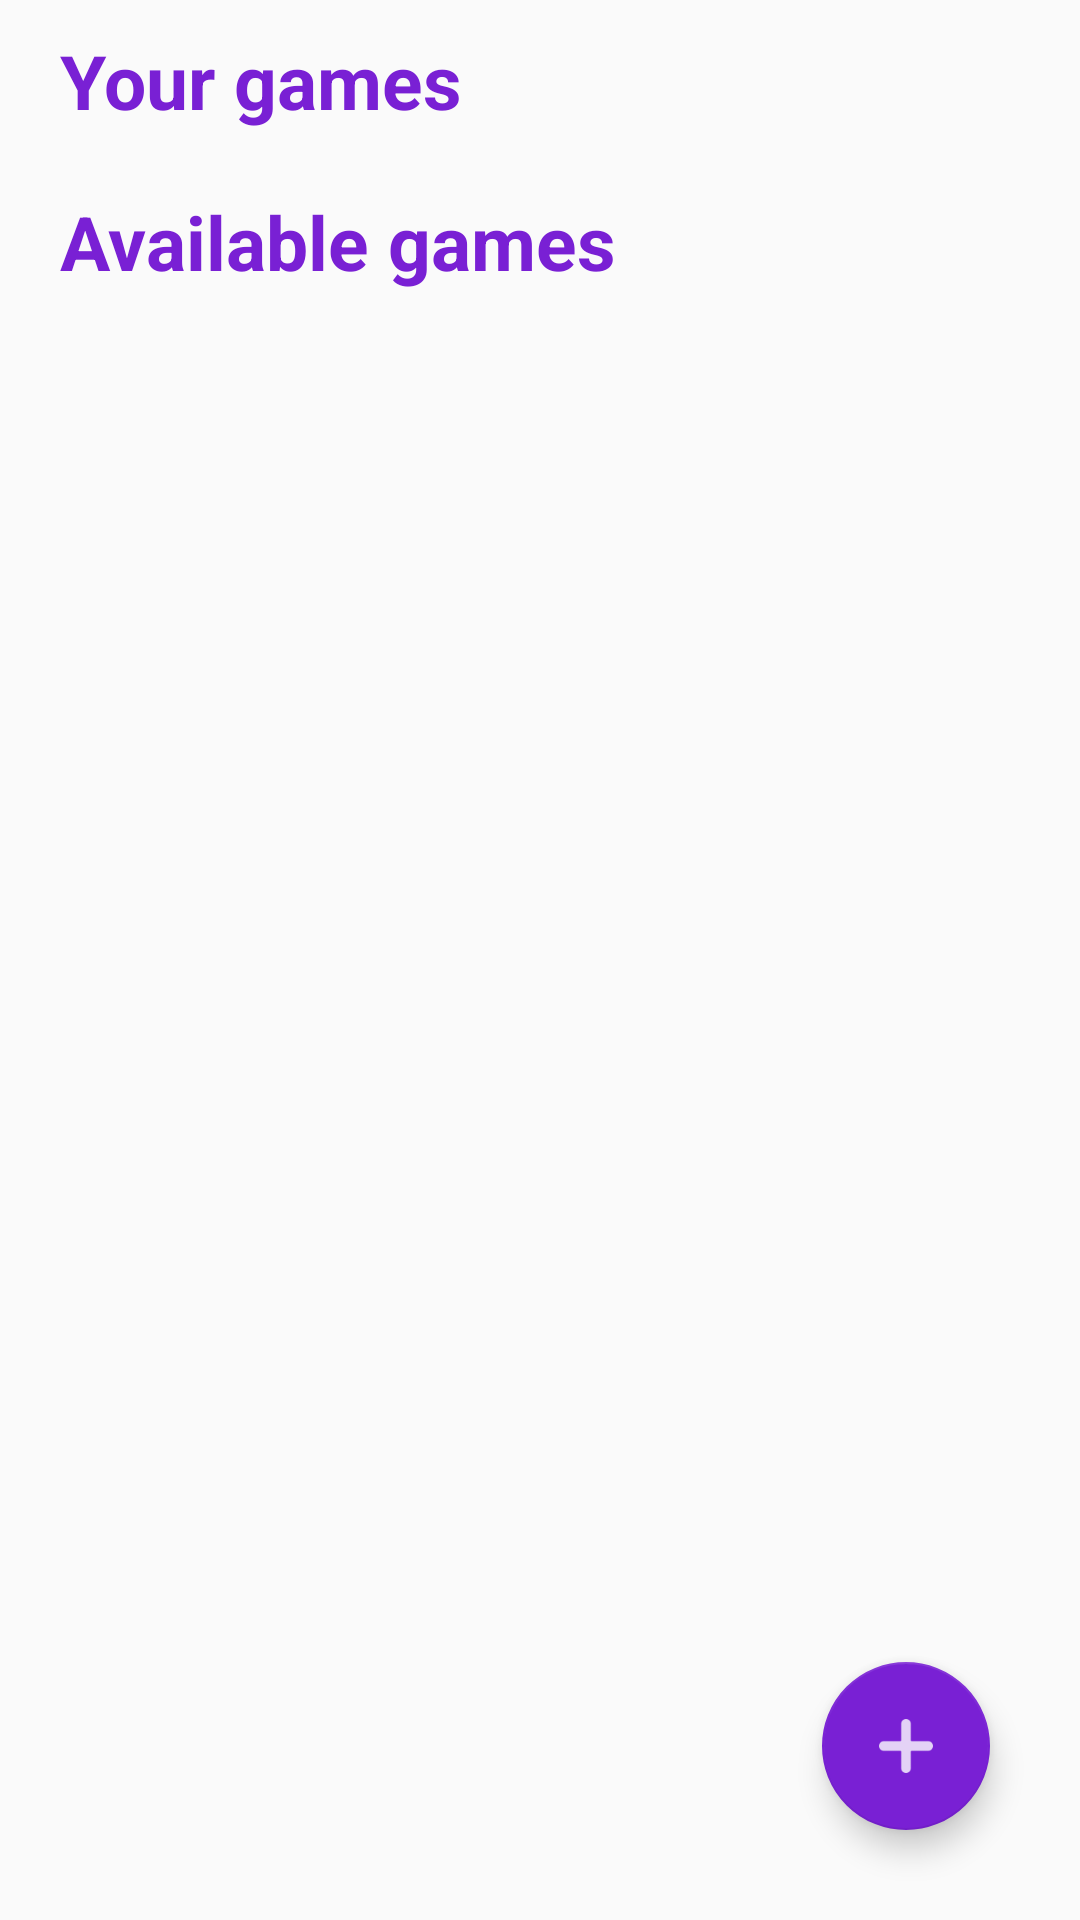

Locate icon controls on the screen. Image size 1080 x 1920, boxes as (x1, y1, x2, y2).
add: (822, 1662, 990, 1830)
